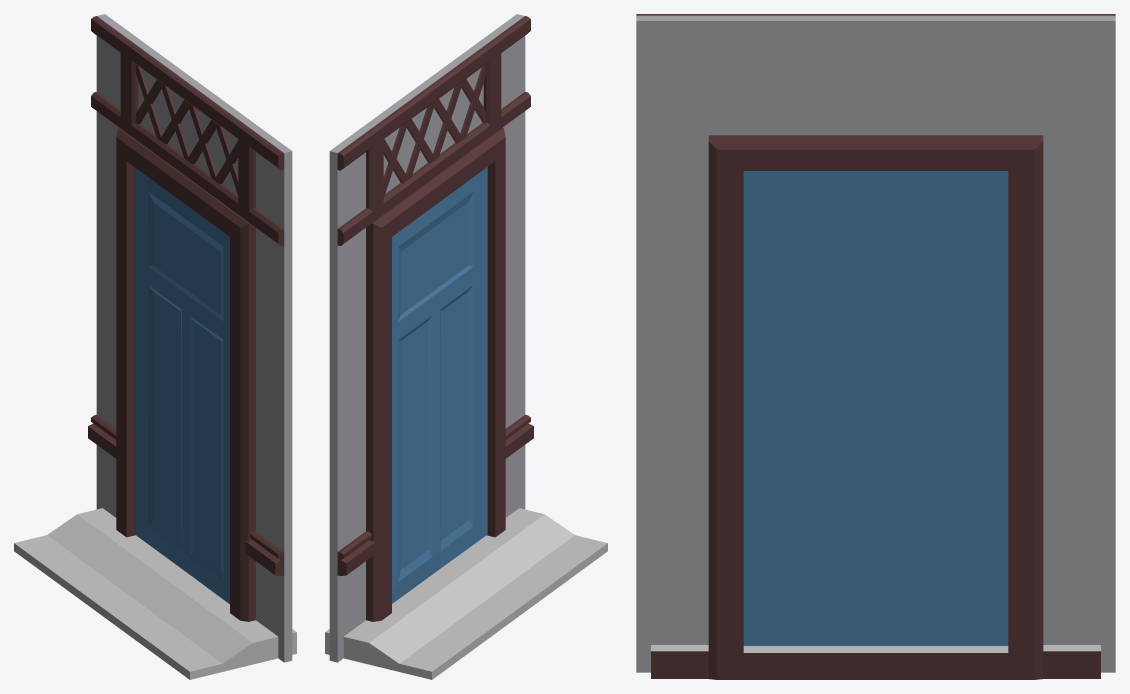
Rendered from Door_S.fbx.
The picture shows the model from 3 angles, left to right: view 1: azimuth 30°, elevation 25°; view 2: azimuth 150°, elevation 25°; view 3: azimuth 270°, elevation 25°; orthographic projection. The views are drawn at different scales.
Parts seen in each view (by area): view 1: Door_S; view 2: Door_S; view 3: Door_S.
Part boxes in pixels (left/top/right/bottom): Door_S: left=14, top=14, right=296, bottom=679; Door_S: left=325, top=14, right=607, bottom=679; Door_S: left=636, top=14, right=1115, bottom=679.
Size of the model in its own units: 67.45 by 200 by 300.
